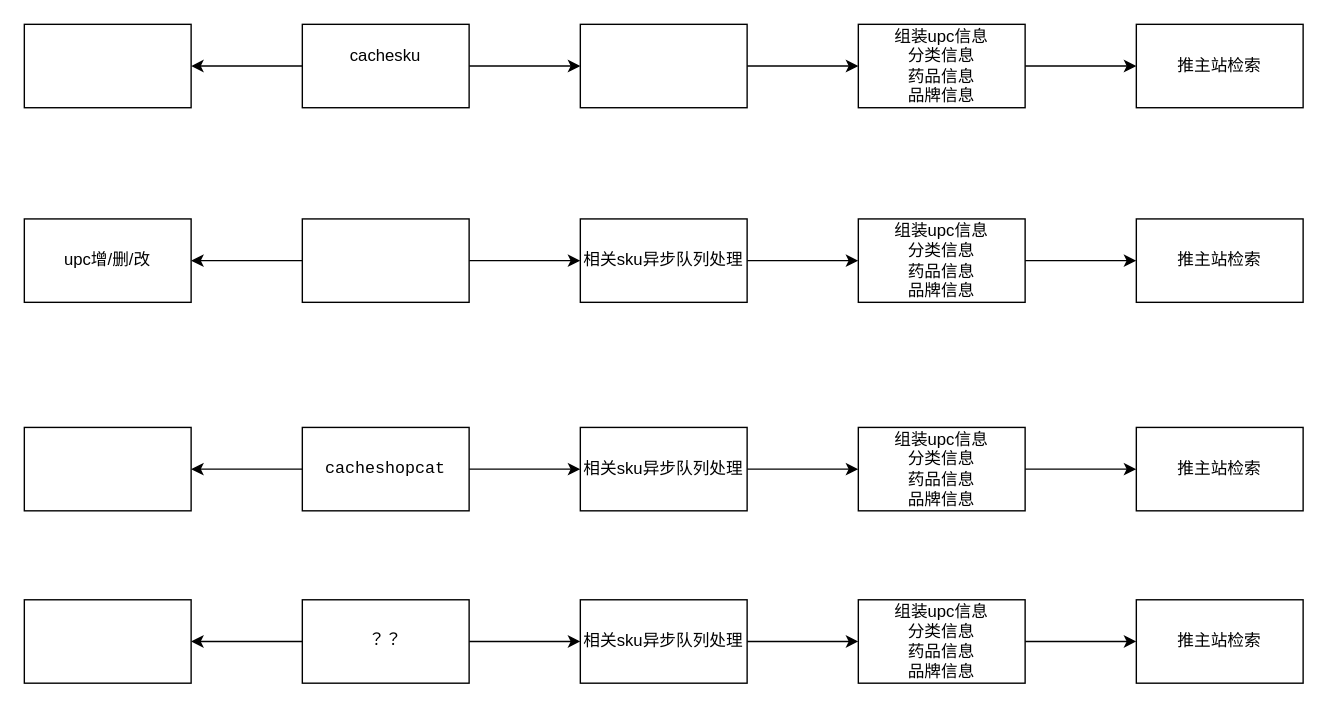
Image size: 1327x708. Some labels were removed from this diagram. The shapes that lost their labels are listed below. From the top down, each one's centre as x and y in pixels, then its label:
At [107,65]: "sku增/删/改/归档".
At [663,65]: "cachesku cacheupc".
At [385,260]: "cacheupc".
At [107,468]: "分类增删改".
At [107,640]: "品牌名增删改".
